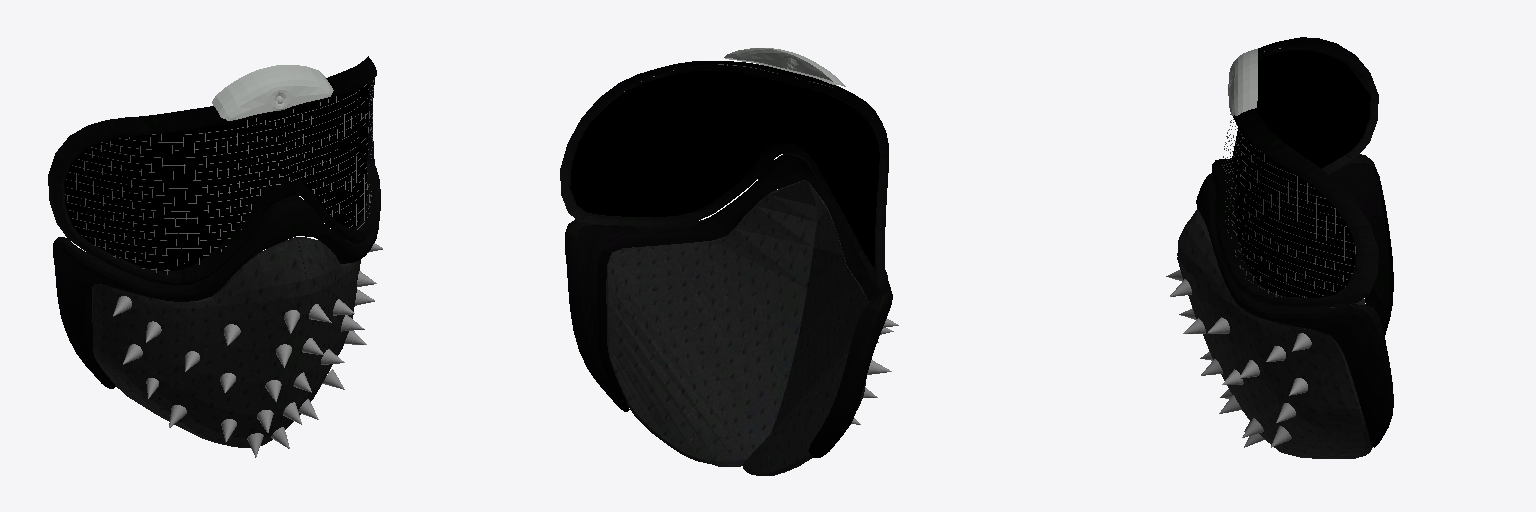
3 renders of one model, left to right at view 1: azimuth 30°, elevation 25°; view 2: azimuth 150°, elevation 25°; view 3: azimuth 270°, elevation 25°, orthographic.
Parts seen in each view (by area): view 1: wrenchmaskfw_wrenchmask_ref, wrenchmaskfw_grid; view 2: wrenchmaskfw_wrenchmask_ref; view 3: wrenchmaskfw_wrenchmask_ref, wrenchmaskfw_grid.
Part boxes in pixels (x1,y1,x2,y2): wrenchmaskfw_wrenchmask_ref: (48,56,382,457); wrenchmaskfw_grid: (65,80,373,274); wrenchmaskfw_wrenchmask_ref: (560,48,898,475); wrenchmaskfw_wrenchmask_ref: (1166,37,1393,458); wrenchmaskfw_grid: (1222,48,1355,297).
Bounding box in the file's own units: 7.32 × 8.68 × 4.55.
Materials: 6 (6 with a texture image).